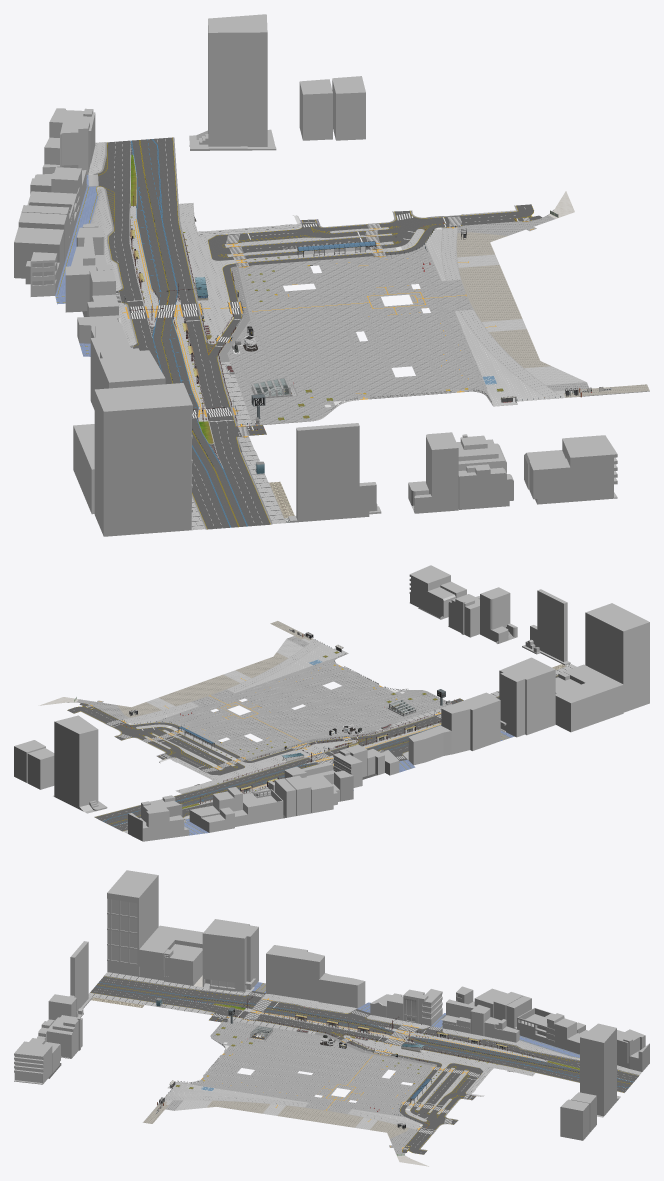
File: OfficialBusanStation_ContextPlaza.fbx
The picture shows the model from 3 angles, top to bottom: view 1: azimuth 30°, elevation 25°; view 2: azimuth 150°, elevation 25°; view 3: azimuth 270°, elevation 25°; orthographic projection. The views are drawn at different scales.
Parts seen in each view (by area): view 1: OfficialStation_-유라시아 도로_0, OfficialStation_-길건너 콘타_0, OfficialStation_-대형도로_0, OfficialStation_-우측 콘타_0, OfficialStation_-좌측 콘타_0, OfficialStation_-유라시아 도로_1, OfficialStation_-대형도로_1; view 2: OfficialStation_-길건너 콘타_0, OfficialStation_-유라시아 도로_0, OfficialStation_-우측 콘타_0, OfficialStation_-좌측 콘타_0, OfficialStation_-대형도로_0, OfficialStation_-유라시아 도로_1, OfficialStation_-대형도로_1; view 3: OfficialStation_-유라시아 도로_0, OfficialStation_-길건너 콘타_0, OfficialStation_-대형도로_0, OfficialStation_-우측 콘타_0, OfficialStation_-좌측 콘타_0, OfficialStation_-대형도로_1, OfficialStation_-유라시아 도로_1.
Part boxes in pixels (bbox=[...]): OfficialStation_-유라시아 도로_0: bbox=[179, 191, 649, 426]; OfficialStation_-길건너 콘타_0: bbox=[14, 108, 192, 536]; OfficialStation_-대형도로_0: bbox=[73, 137, 294, 530]; OfficialStation_-우측 콘타_0: bbox=[288, 423, 617, 522]; OfficialStation_-좌측 콘타_0: bbox=[189, 14, 365, 150]; OfficialStation_-유라시아 도로_1: bbox=[218, 210, 649, 426]; OfficialStation_-대형도로_1: bbox=[88, 142, 199, 324]; OfficialStation_-길건너 콘타_0: bbox=[128, 603, 649, 841]; OfficialStation_-유라시아 도로_0: bbox=[38, 621, 452, 793]; OfficialStation_-우측 콘타_0: bbox=[409, 565, 570, 665]; OfficialStation_-좌측 콘타_0: bbox=[14, 715, 107, 813]; OfficialStation_-대형도로_0: bbox=[94, 663, 576, 831]; OfficialStation_-유라시아 도로_1: bbox=[67, 621, 452, 760]; OfficialStation_-대형도로_1: bbox=[118, 753, 333, 833]; OfficialStation_-유라시아 도로_0: bbox=[143, 1007, 535, 1166]; OfficialStation_-길건너 콘타_0: bbox=[107, 870, 649, 1071]; OfficialStation_-대형도로_0: bbox=[88, 972, 639, 1092]; OfficialStation_-우측 콘타_0: bbox=[14, 941, 92, 1084]; OfficialStation_-좌측 콘타_0: bbox=[560, 1023, 620, 1140]; OfficialStation_-대형도로_1: bbox=[384, 1016, 641, 1081]; OfficialStation_-유라시아 도로_1: bbox=[143, 1015, 436, 1158].
Bounding box in the file's own units: 32875 × 6126 × 40678.
136 materials, 96 textured.
